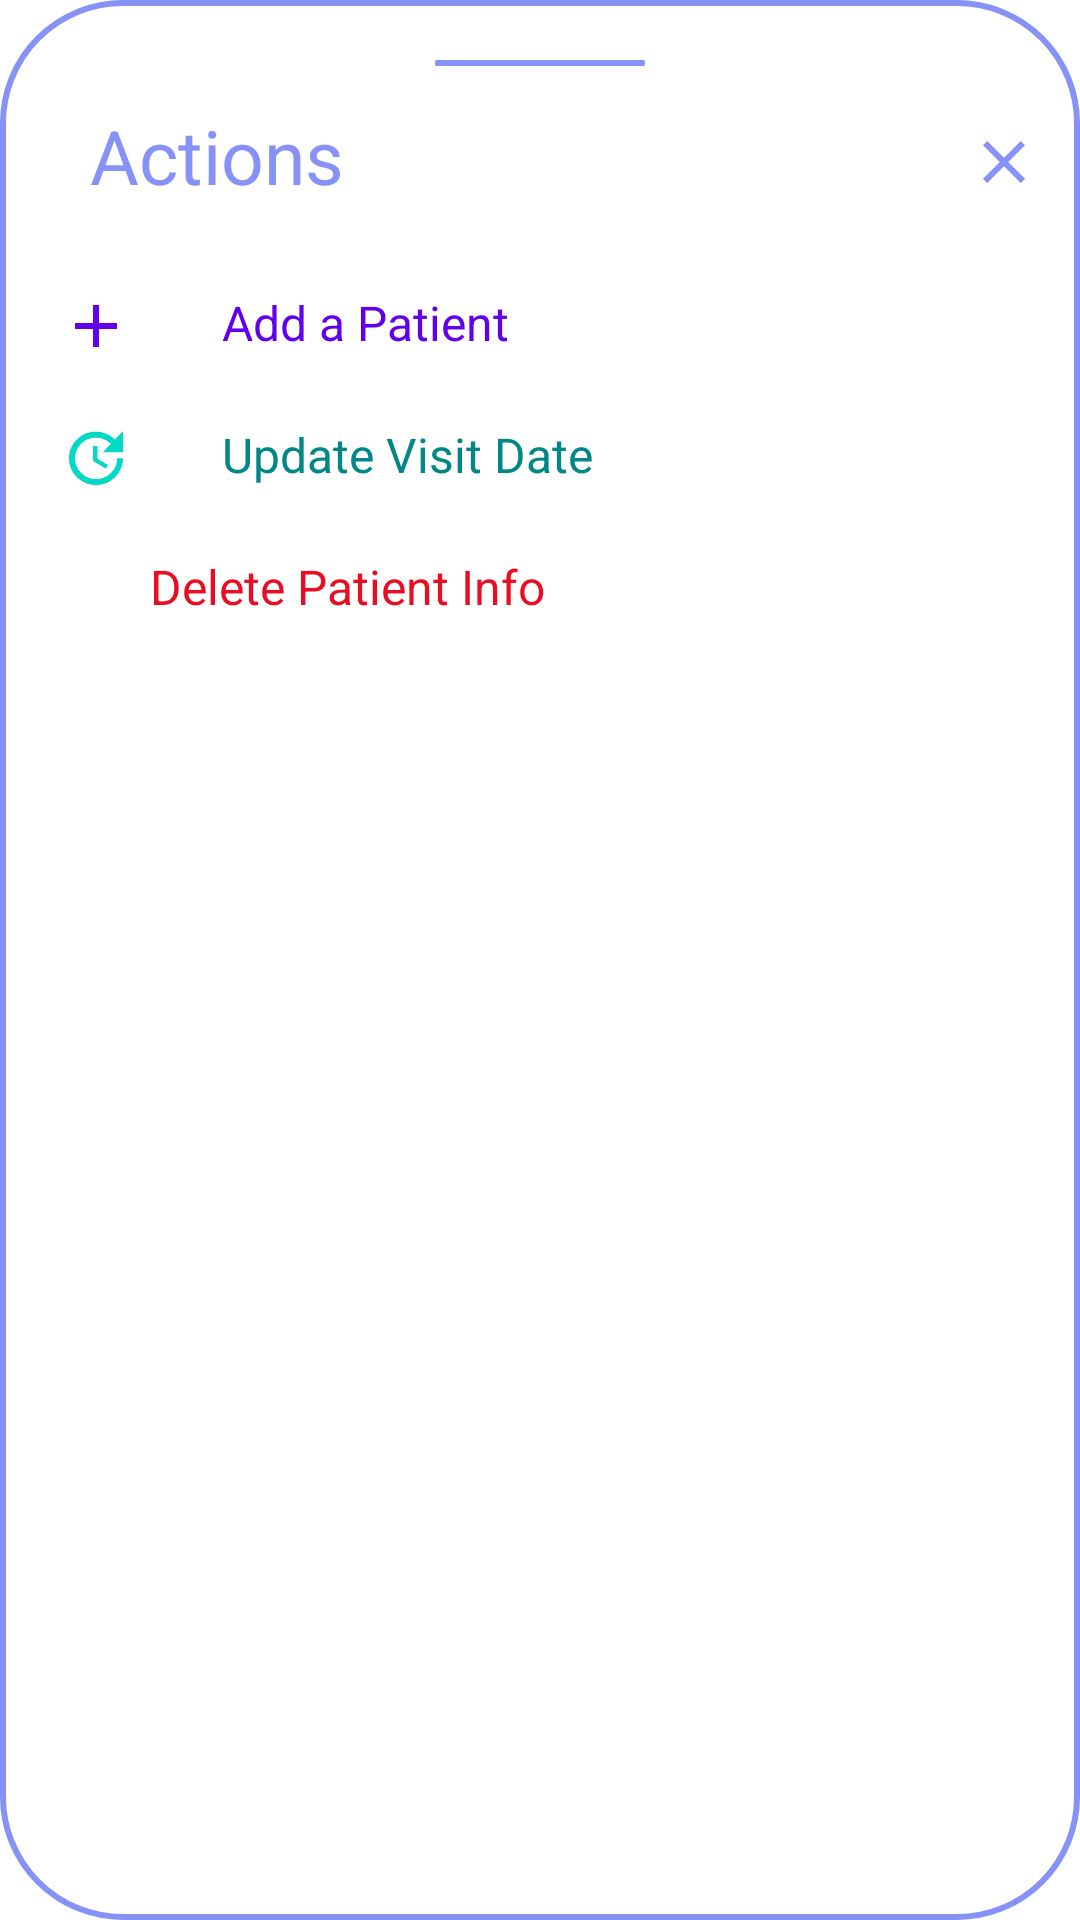

Named icons in this screenshot (1080 × 1920) and their centers, (x=x, y=y):
cross: (x=1004, y=162)
